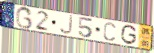2: (34, 11, 51, 32)
5: (77, 17, 94, 39)
C: (102, 21, 117, 42)
G: (15, 6, 34, 30), (120, 25, 138, 46)
J: (58, 15, 74, 36)
